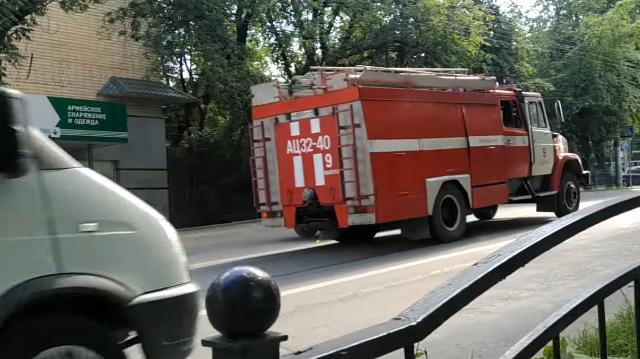fire fighting vehicle: (249, 57, 586, 244)
non emergency car: (1, 83, 198, 359)
